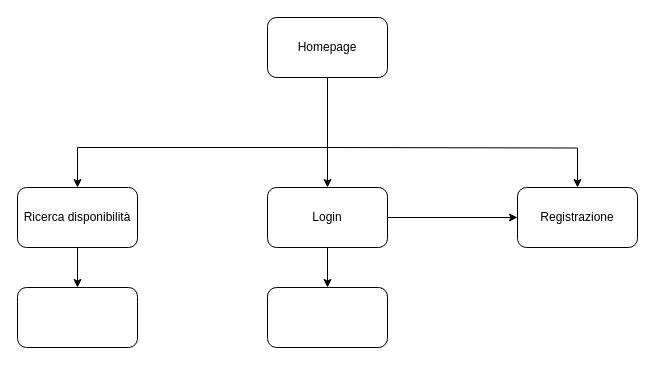
This 655x365 diagram has some shape labels left out. Here are the shapes that lost their labels. From the top down, the centre of each, then its label:
At point (77, 317): "Capsule disponibili".
At point (327, 317): "Password dimenticata".
